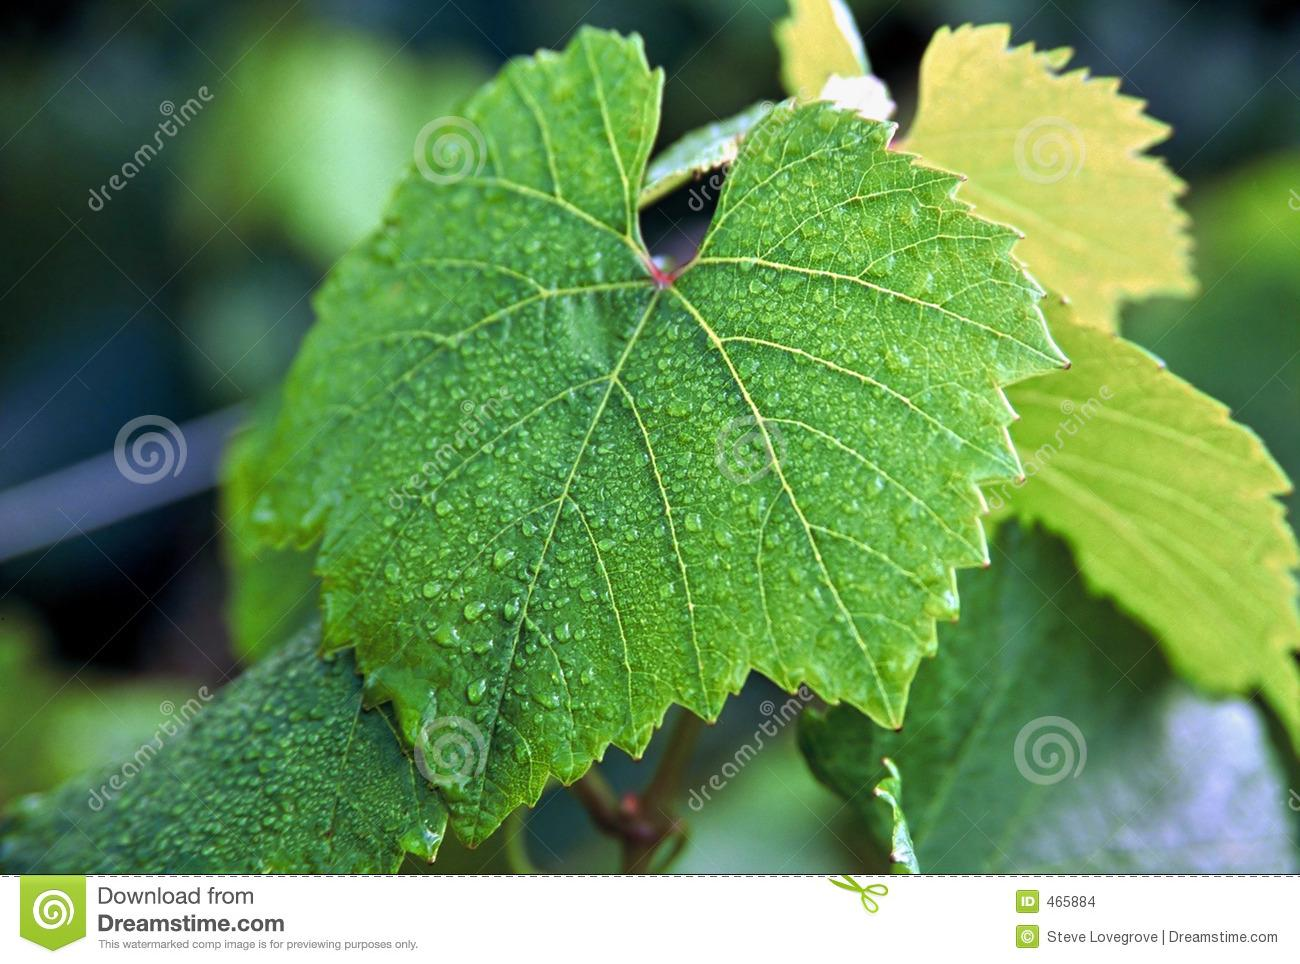grape leaf black rot: (262, 38, 1038, 847)
